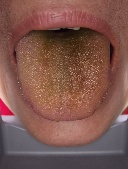tongue: (13, 42, 111, 122)
